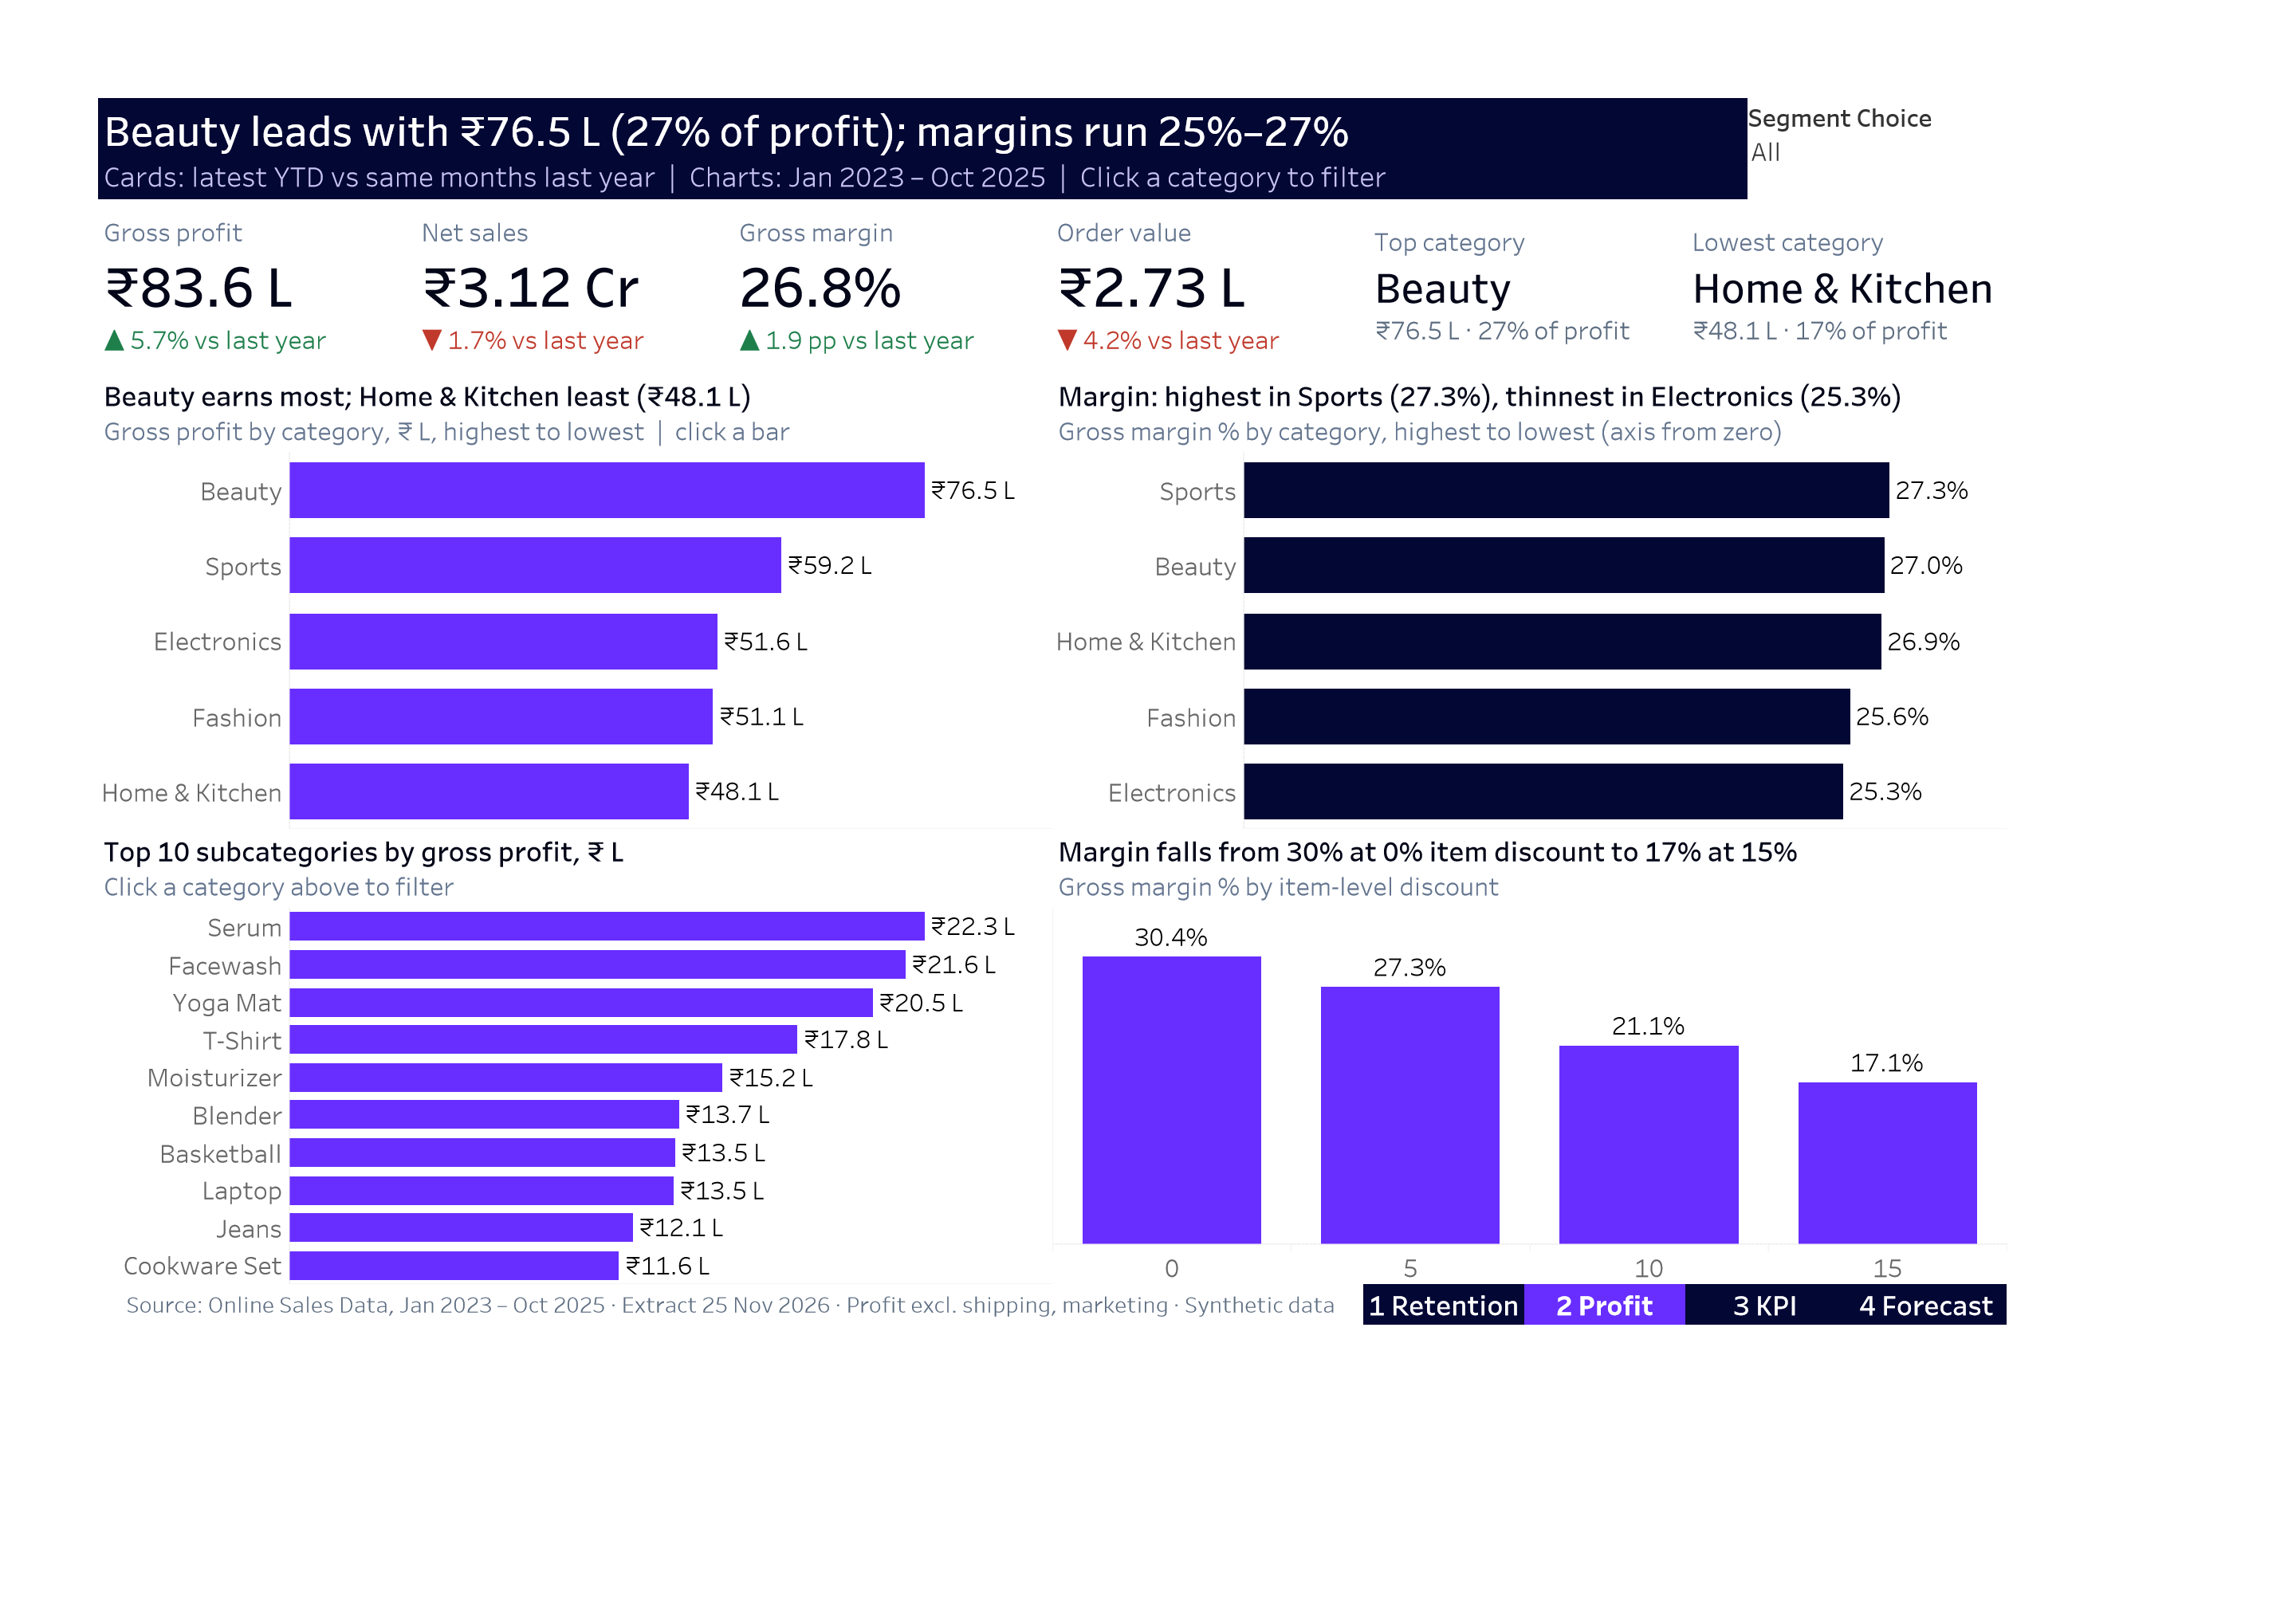

This screenshot's page, from the dashboard's own definition file:
{"tool":"tableau","page":{"name":"2 Profit","canvas":[1400,900],"ordinal":1},"visuals":[{"type":"NONE","title":"P2 Header","box":[0,0,1210,74]},{"type":"parameter","param":"[Parameters].[Parameter 1]","box":[1210,0,190,74]},{"type":"NONE","title":"K2 GP","box":[0,74,233,128]},{"type":"NONE","title":"K2 NS","box":[233,74,233,128]},{"type":"NONE","title":"K2 Margin","box":[466,74,233,128]},{"type":"NONE","title":"K2 AOV","box":[699,74,233,128]},{"type":"NONE","title":"K2 Top","box":[932,74,233,128]},{"type":"NONE","title":"K2 Low","box":[1165,74,235,128]},{"type":"NONE","title":"T GP Category","box":[0,202,700,58]},{"type":"NONE","title":"T Margin Category","box":[700,202,700,58]},{"type":"NONE","title":"Profit by Category","box":[0,260,700,276]},{"type":"NONE","title":"Margin by Category","box":[700,260,700,276]},{"type":"text","box":[0,536,700,58]},{"type":"NONE","title":"T Discount","box":[700,536,700,58]},{"type":"NONE","title":"Profit by Subcategory","box":[0,594,700,276]},{"type":"NONE","title":"Margin by Discount","box":[700,594,700,276]},{"type":"text","box":[0,870,928,30]},{"type":"dashboard-object","box":[928,870,118,30]},{"type":"dashboard-object","box":[1046,870,118,30]},{"type":"dashboard-object","box":[1164,870,118,30]},{"type":"dashboard-object","box":[1282,870,118,30]}]}

Visuals, with their boxes on the page's 1400x900 design canvas (x1, y1, x2, y2). These are canvas units, not pixel positions in the 2296x1622 screenshot, which may show the page scaled, cropped or inside an application window:
"P2 Header" NONE: 0/0/1210/74
parameter: 1210/0/1400/74
"K2 GP" NONE: 0/74/233/202
"K2 NS" NONE: 233/74/466/202
"K2 Margin" NONE: 466/74/699/202
"K2 AOV" NONE: 699/74/932/202
"K2 Top" NONE: 932/74/1165/202
"K2 Low" NONE: 1165/74/1400/202
"T GP Category" NONE: 0/202/700/260
"T Margin Category" NONE: 700/202/1400/260
"Profit by Category" NONE: 0/260/700/536
"Margin by Category" NONE: 700/260/1400/536
text: 0/536/700/594
"T Discount" NONE: 700/536/1400/594
"Profit by Subcategory" NONE: 0/594/700/870
"Margin by Discount" NONE: 700/594/1400/870
text: 0/870/928/900
dashboard-object: 928/870/1046/900
dashboard-object: 1046/870/1164/900
dashboard-object: 1164/870/1282/900
dashboard-object: 1282/870/1400/900
